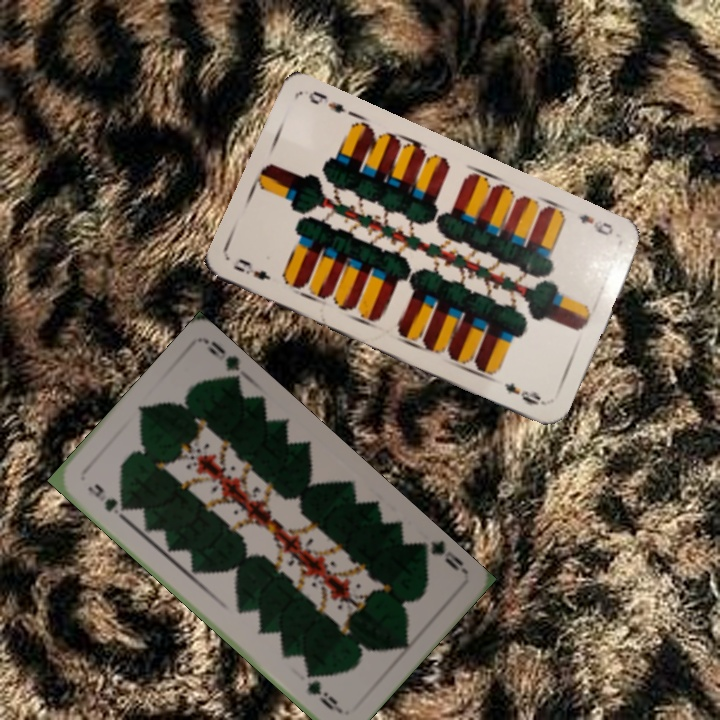E9: (229, 254, 274, 283), (575, 210, 616, 239)
G9: (413, 537, 469, 576), (83, 479, 130, 521)
